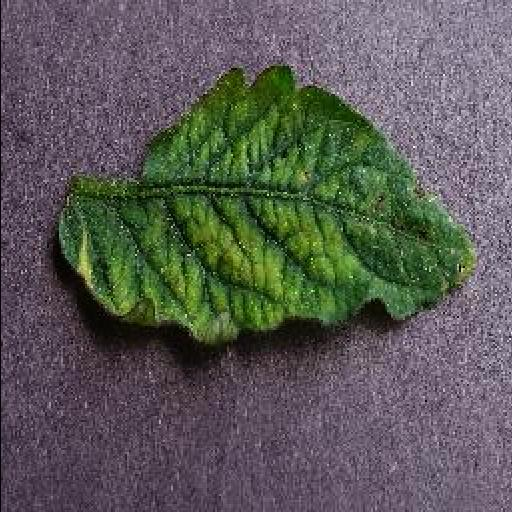Mosaic Virus: (46, 58, 490, 344)
